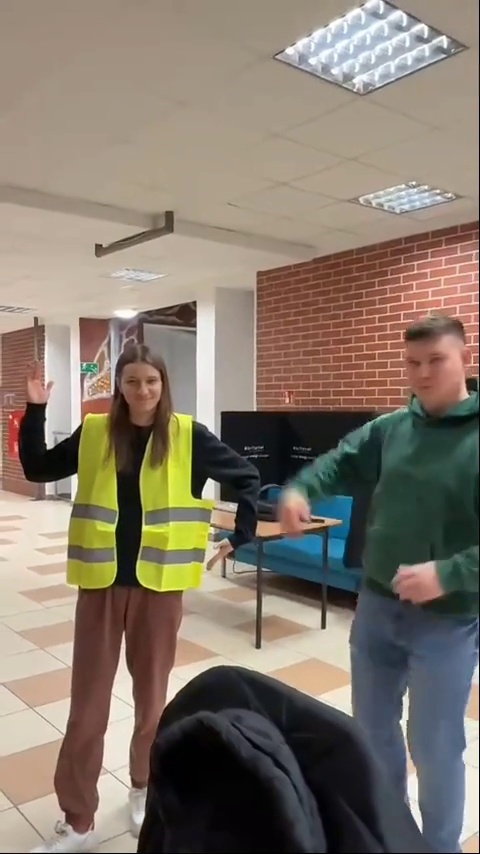no vest: (324, 309, 480, 832)
vest: (28, 338, 255, 843)
